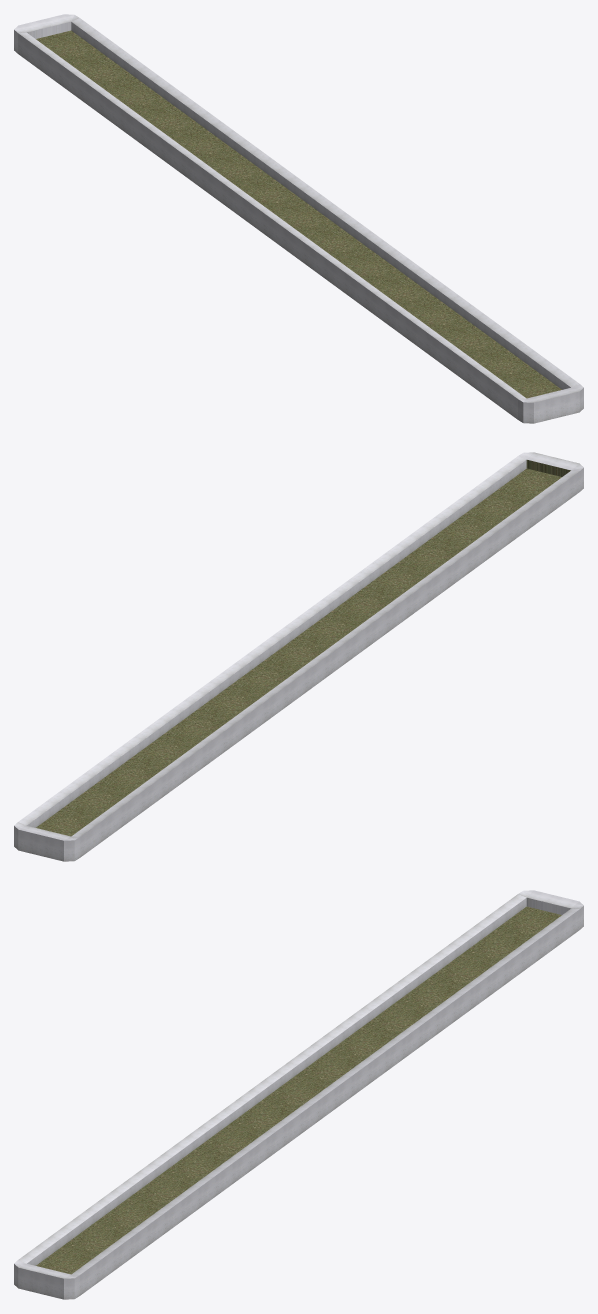
File: vgeplntr08_lvs.obj
3 views of the same model, one above another, from view 1: azimuth 30°, elevation 25°; view 2: azimuth 150°, elevation 25°; view 3: azimuth 330°, elevation 25° (orthographic).
Visible parts, largest first — view 1: vgEplntr08_lvs; view 2: vgEplntr08_lvs; view 3: vgEplntr08_lvs.
Part boxes in pixels (x1,y1,x2,y2): vgEplntr08_lvs: [14, 14, 583, 423]; vgEplntr08_lvs: [14, 452, 583, 861]; vgEplntr08_lvs: [14, 890, 583, 1299].
Size of the model in its own units: 1.47 by 0.4739 by 21.19.
Materials: 2 (2 with a texture image).
